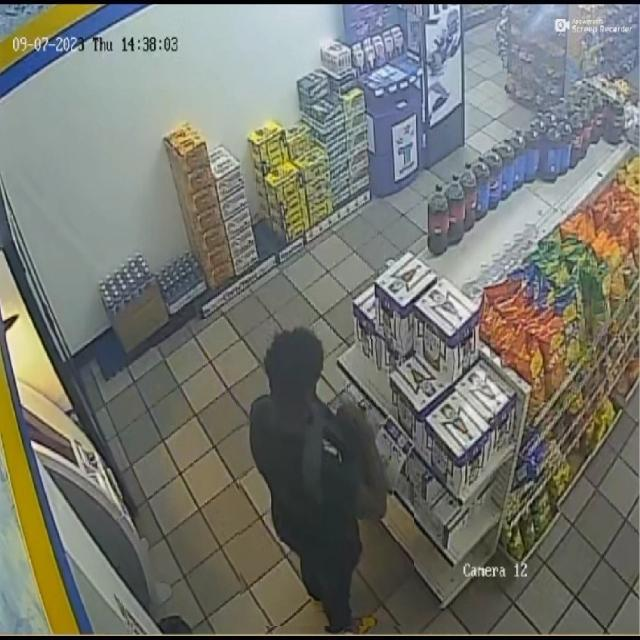normal: (236, 305, 414, 626)
